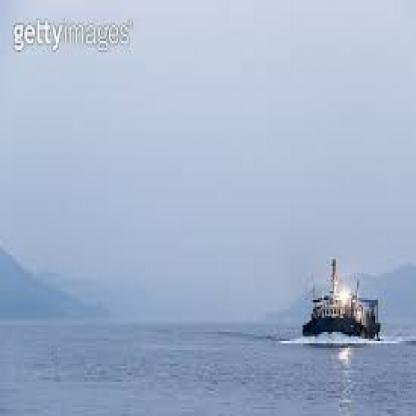fish-b: (289, 245, 392, 354)
